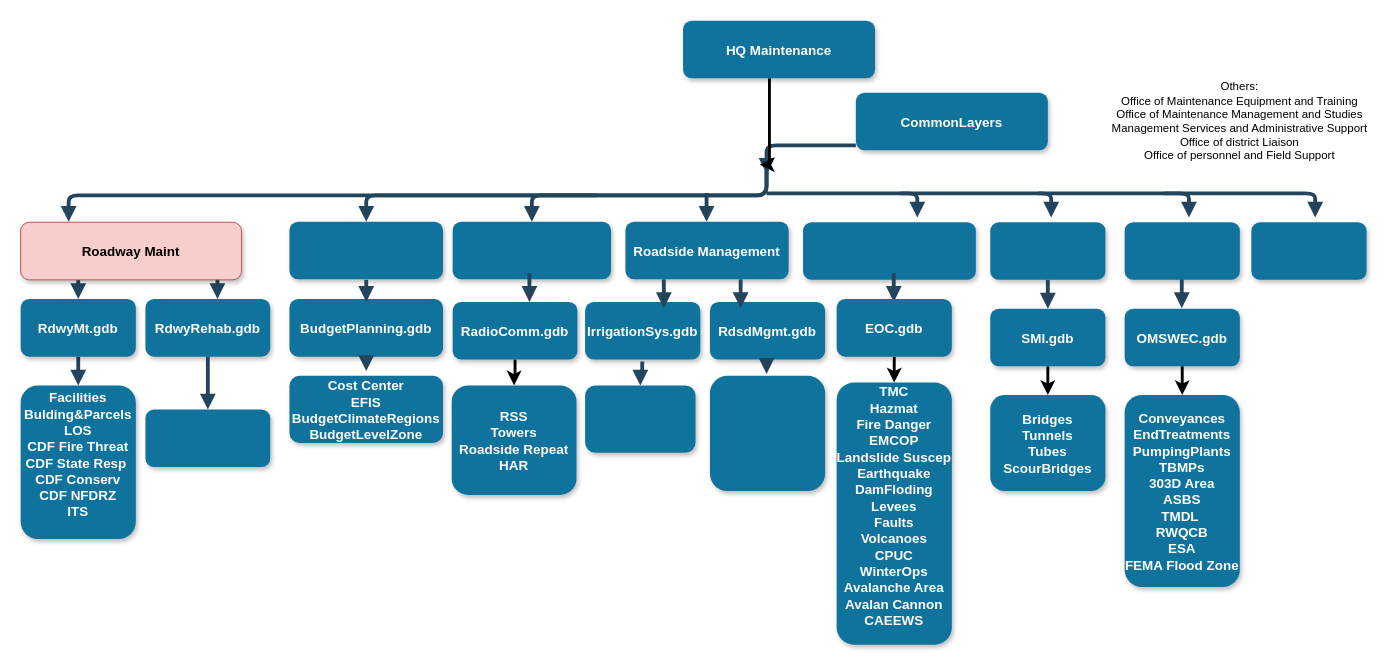
Image size: 1389x667. Some labels were removed from this diagram. Each missing label, with the centre of its shape:
"Budgets ans Planning" goes at pixel 366 251.
"Data sets" goes at pixel 208 439.
"Emergency Management" goes at pixel 890 252.
"OMSWEC" goes at pixel 1182 252.
"Others" goes at pixel 1309 252.
"Radio Communication" goes at pixel 532 251.
"SMI" goes at pixel 1048 252.
"VegCon Encampments Littering & Debris Tree Mortality Erosion" goes at pixel 768 434.
"WaterDelivery Controller Sys Irrigated Area" goes at pixel 641 420.
